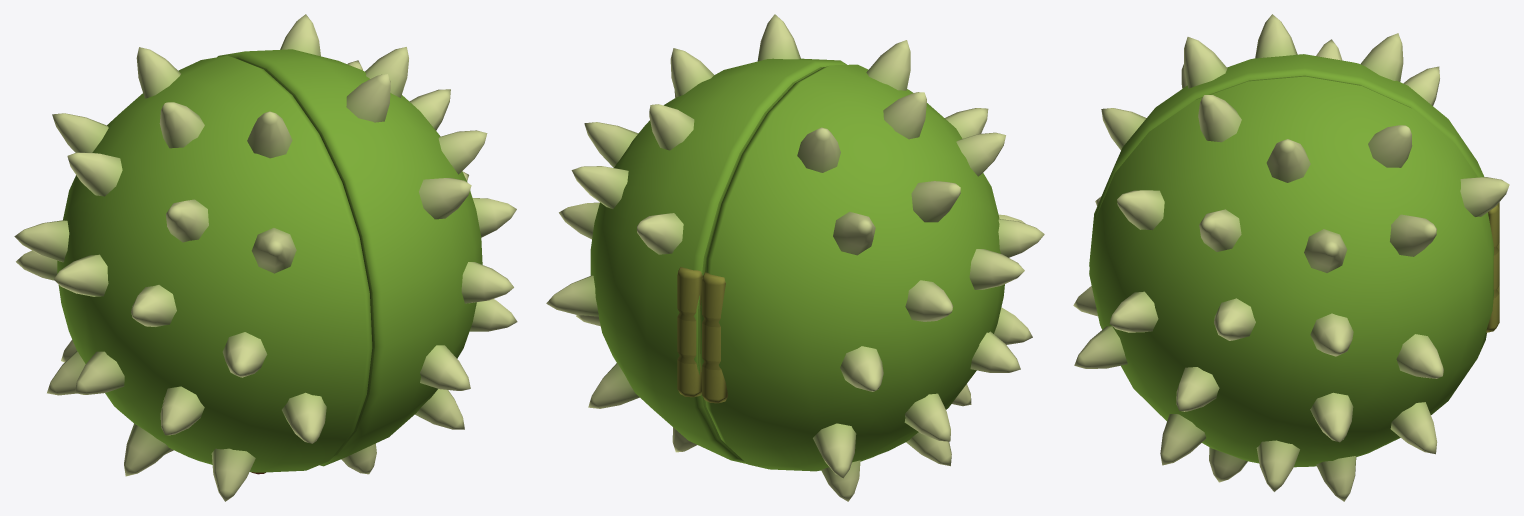
File: kuri.glb
The picture shows the model from 3 angles, left to right: view 1: azimuth 30°, elevation 25°; view 2: azimuth 150°, elevation 25°; view 3: azimuth 270°, elevation 25°; orthographic projection. The views are drawn at different scales.
Parts seen in each view (by area): view 1: bl, br; view 2: bl, br; view 3: br, bl.
Boxes of the visible parts, left/top/right/bottom form: bl: left=14, top=47, right=372, bottom=501; br: left=217, top=14, right=517, bottom=474; bl: left=700, top=40, right=1044, bottom=501; br: left=546, top=14, right=846, bottom=463; br: left=1074, top=76, right=1509, bottom=501; bl: left=1073, top=14, right=1499, bottom=316.
Size of the model in its own units: 1.07 by 0.9252 by 0.9254.
